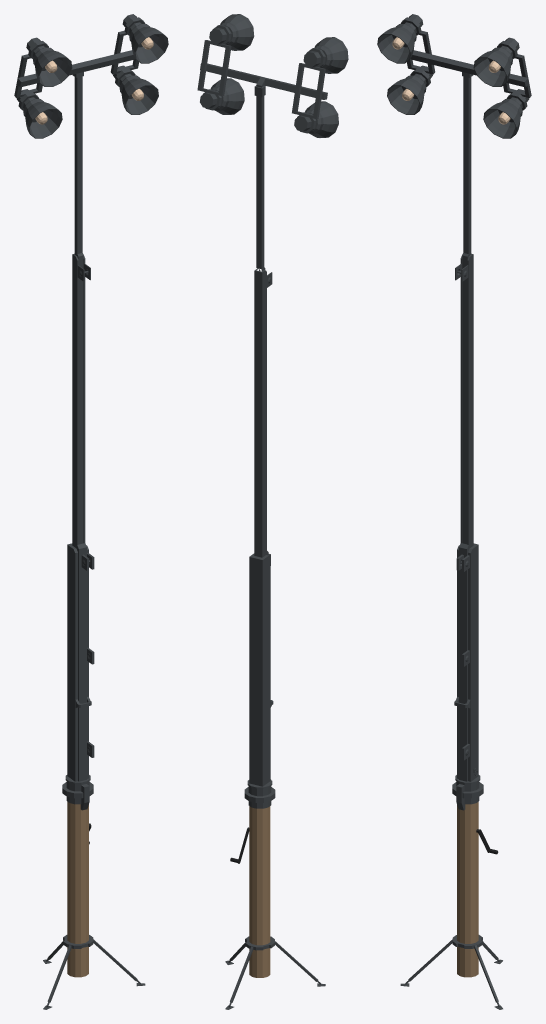
File: SM_Lamp_Post.gltf
3 renders of one model, left to right at view 1: azimuth 30°, elevation 25°; view 2: azimuth 150°, elevation 25°; view 3: azimuth 330°, elevation 25°, orthographic. The views are drawn at different scales.
Visible parts, largest first — view 1: SM_Lamp_Post; view 2: SM_Lamp_Post; view 3: SM_Lamp_Post.
Boxes of the visible parts, bbox=[...] form: SM_Lamp_Post: bbox=[14, 14, 168, 1009]; SM_Lamp_Post: bbox=[197, 14, 348, 1009]; SM_Lamp_Post: bbox=[377, 14, 531, 1009].
Bounding box in the file's own units: 0.9412 × 6.66 × 0.7789.
